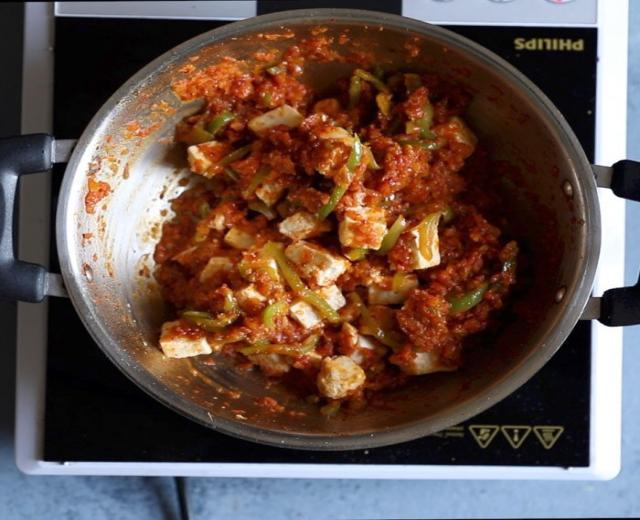kadai paneer: (22, 6, 622, 445), (1, 132, 74, 303), (0, 466, 188, 518), (85, 126, 162, 218), (300, 124, 370, 221), (461, 83, 546, 158), (190, 351, 295, 402), (136, 80, 206, 138), (237, 140, 300, 203), (175, 57, 255, 106), (394, 154, 463, 210), (18, 2, 51, 114), (0, 131, 81, 170), (156, 204, 212, 258), (371, 144, 429, 196), (393, 84, 440, 143), (181, 287, 243, 330), (190, 197, 250, 241), (252, 64, 308, 108), (236, 243, 287, 290), (349, 68, 392, 123), (259, 0, 405, 16), (157, 321, 214, 358), (590, 159, 638, 200), (432, 116, 476, 159), (136, 278, 171, 330), (185, 139, 233, 176), (247, 103, 303, 134), (241, 336, 319, 358), (287, 33, 342, 64), (248, 351, 293, 375), (82, 177, 112, 212), (513, 36, 587, 50), (121, 118, 160, 140), (262, 301, 287, 330), (346, 75, 363, 112), (588, 163, 612, 188), (252, 47, 282, 63), (257, 29, 292, 41), (402, 41, 422, 59), (175, 63, 198, 76), (561, 180, 574, 198), (137, 262, 150, 278)
